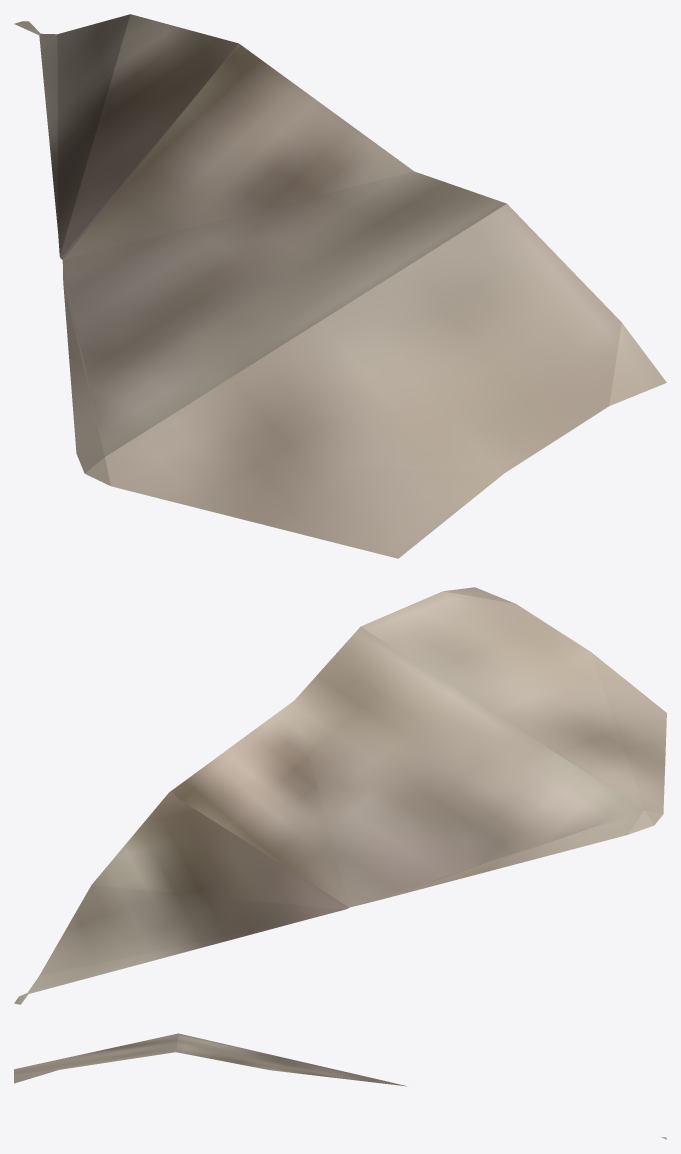
3 views of the same model, one above another, from view 1: azimuth 30°, elevation 25°; view 2: azimuth 150°, elevation 25°; view 3: azimuth 270°, elevation 25° (orthographic). The views are drawn at different scales.
Size of the model in its own units: 0.0842 by 0.0333 by 0.2257.
Materials: 1 (1 with a texture image).
